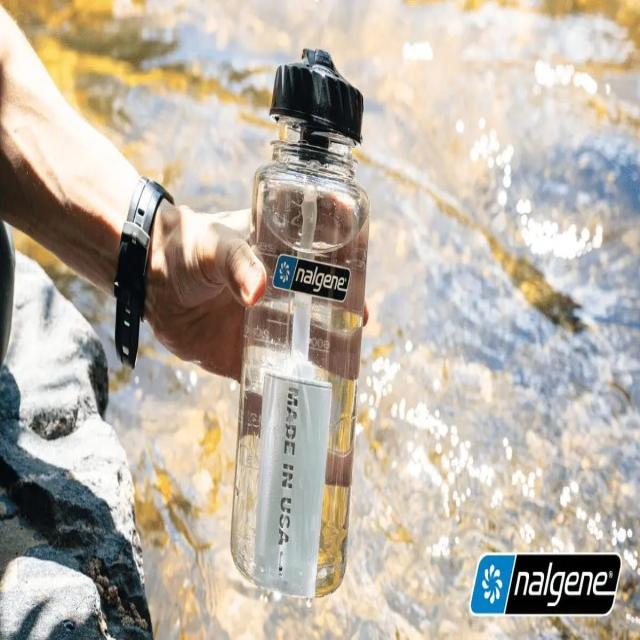Botella: (237, 37, 359, 596)
